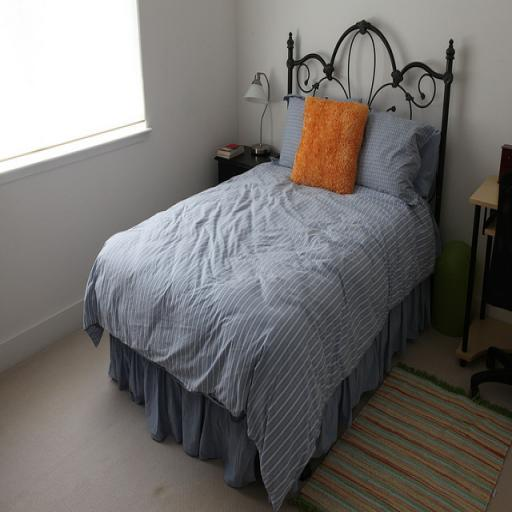bed: (74, 12, 466, 490)
